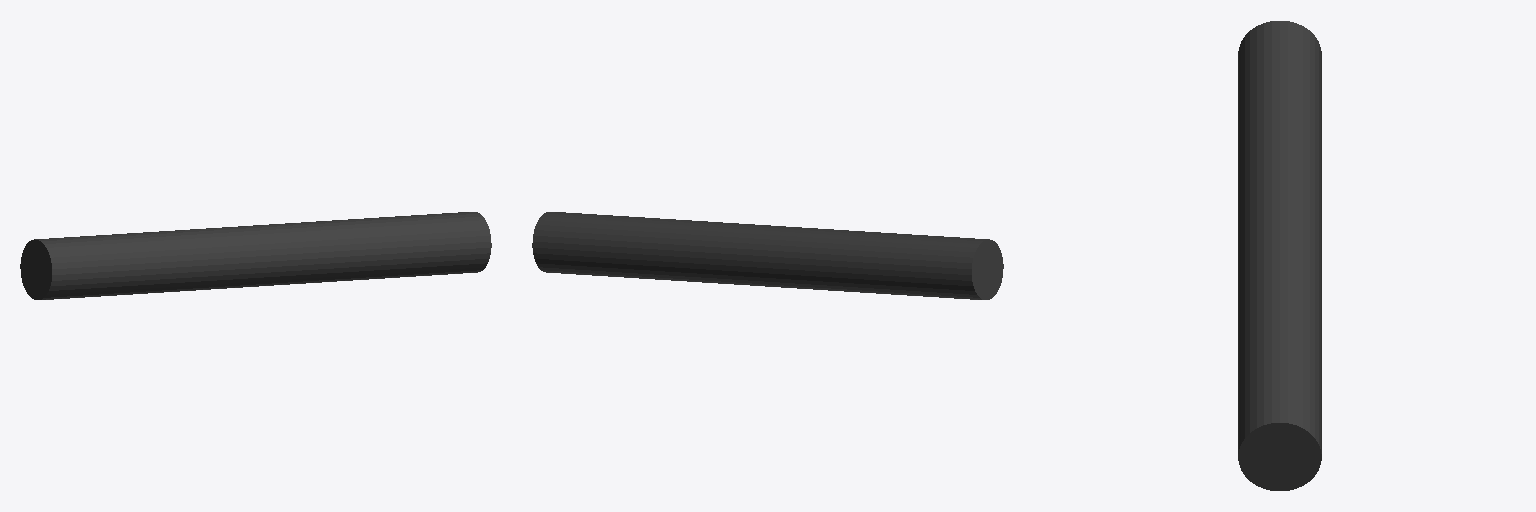
The robot description file, URDF, robot "panda":
<?xml version="1.0" ?>
<!-- =================================================================================== -->
<!-- |    This document was autogenerated by xacro from panda_arm_hand.urdf.xacro      | -->
<!-- |    EDITING THIS FILE BY HAND IS NOT RECOMMENDED                                 | -->
<!-- =================================================================================== -->
<robot name="panda" xmlns:xacro="http://www.ros.org/wiki/xacro">
  <link name="panda_link0">
  	<inertial>
      <origin rpy="0 0 0" xyz="0 0 0.05"/>
       <mass value="2.9"/>
       <inertia ixx="0.1" ixy="0" ixz="0" iyy="0.1" iyz="0" izz="0.1"/>
    </inertial>
    <visual>
      <geometry>
        <mesh filename="package://meshes/collision/link0.obj"/>
      </geometry>
      <material name="panda_white">
    		<color rgba="1. 1. 1. 1."/>
  		</material>
    </visual>
    <collision>
      <geometry>
        <mesh filename="package://meshes/collision/link0.obj"/>
      </geometry>
      <material name="panda_white"/>
    </collision>
  </link>
  <link name="panda_link1">
  	<inertial>
      <origin rpy="0 0 0" xyz="0 -0.04 -0.05"/>
       <mass value="2.7"/>
       <inertia ixx="0.1" ixy="0" ixz="0" iyy="0.1" iyz="0" izz="0.1"/>
    </inertial>
    <visual>
      <geometry>
        <mesh filename="package://meshes/visual/link1.obj"/>
      </geometry>
      <material name="panda_white"/>
    </visual>
    <collision>
      <geometry>
        <mesh filename="package://meshes/collision/link1.obj"/>
      </geometry>
      <material name="panda_white"/>
    </collision>
  </link>
  <joint name="panda_joint1" type="revolute">
    <safety_controller k_position="100.0" k_velocity="40.0" soft_lower_limit="-2.8973" soft_upper_limit="2.8973"/>
    <origin rpy="0 0 0" xyz="0 0 0.333"/>
    <parent link="panda_link0"/>
    <child link="panda_link1"/>
    <axis xyz="0 0 1"/>
    <limit effort="87" lower="-2.9671" upper="2.9671" velocity="2.1750"/>
  </joint>
  <link name="panda_link2">
  	<inertial>
      <origin rpy="0 0 0" xyz="0 -0.04 0.06"/>
       <mass value="2.73"/>
       <inertia ixx="0.1" ixy="0" ixz="0" iyy="0.1" iyz="0" izz="0.1"/>
    </inertial>
    <visual>
      <geometry>
        <mesh filename="package://meshes/visual/link2.obj"/>
      </geometry>
      <material name="panda_white"/>
    </visual>
    <collision>
      <geometry>
        <mesh filename="package://meshes/collision/link2.obj"/>
      </geometry>
      <material name="panda_white"/>
    </collision>
  </link>
  <joint name="panda_joint2" type="revolute">
    <safety_controller k_position="100.0" k_velocity="40.0" soft_lower_limit="-1.7628" soft_upper_limit="1.7628"/>
    <origin rpy="-1.57079632679 0 0" xyz="0 0 0"/>
    <parent link="panda_link1"/>
    <child link="panda_link2"/>
    <axis xyz="0 0 1"/>
    <limit effort="87" lower="-1.8326" upper="1.8326" velocity="2.1750"/>
    <!-- <limit effort="87" lower="-.3326" upper=".4326" velocity="2.1750"/> -->
  </joint>
  <link name="panda_link3">
	  <inertial>
      <origin rpy="0 0 0" xyz="0.01 0.01 -0.05"/>
       <mass value="2.04"/>
       <inertia ixx="0.1" ixy="0" ixz="0" iyy="0.1" iyz="0" izz="0.1"/>
    </inertial>
    <visual>
      <geometry>
        <mesh filename="package://meshes/visual/link3.obj"/>
      </geometry>
      <material name="panda_red">
    		<color rgba="1. 1. 1. 1."/>
  		</material>
    </visual>
    <collision>
      <geometry>
        <mesh filename="package://meshes/collision/link3.obj"/>
      </geometry>
    </collision>
  </link>
  <joint name="panda_joint3" type="revolute">
    <safety_controller k_position="100.0" k_velocity="40.0" soft_lower_limit="-2.8973" soft_upper_limit="2.8973"/>
    <origin rpy="1.57079632679 0 0" xyz="0 -0.316 0"/>
    <parent link="panda_link2"/>
    <child link="panda_link3"/>
    <axis xyz="0 0 1"/>
    <limit effort="87" lower="-2.9671" upper="2.9671" velocity="2.1750"/>
  </joint>
  <link name="panda_link4">
  	<inertial>
      <origin rpy="0 0 0" xyz="-0.03 0.03 0.02"/>
       <mass value="2.08"/>
       <inertia ixx="0.1" ixy="0" ixz="0" iyy="0.1" iyz="0" izz="0.1"/>
    </inertial>
    <visual>
      <geometry>
        <mesh filename="package://meshes/visual/link4.obj"/>
      </geometry>
      <material name="panda_white"/>
    </visual>
    <collision>
      <geometry>
        <mesh filename="package://meshes/collision/link4.obj"/>
      </geometry>
      <material name="panda_white"/>
    </collision>
  </link>
  <joint name="panda_joint4" type="revolute">
    <safety_controller k_position="100.0" k_velocity="40.0" soft_lower_limit="-3.0718" soft_upper_limit="-0.0698"/>
    <origin rpy="1.57079632679 0 0" xyz="0.0825 0 0"/>
    <parent link="panda_link3"/>
    <child link="panda_link4"/>
    <axis xyz="0 0 1"/>
    <limit effort="87" lower="-3.1416" upper="0.0" velocity="2.1750"/>
    <!-- <limit effort="87" lower="-2.5" upper="-1.0" velocity="2.1750"/> -->
  </joint>
  <link name="panda_link5">
  	<inertial>
      <origin rpy="0 0 0" xyz="0 0.04 -0.12"/>
       <mass value="3"/>
       <inertia ixx="0.1" ixy="0" ixz="0" iyy="0.1" iyz="0" izz="0.1"/>
    </inertial>
    <visual>
      <geometry>
        <mesh filename="package://meshes/visual/link5.obj"/>
      </geometry>
      <material name="panda_white"/>
    </visual>
    <collision>
      <geometry>
        <mesh filename="package://meshes/collision/link5.obj"/>
      </geometry>
      <material name="panda_white"/>
    </collision>
  </link>
  <joint name="panda_joint5" type="revolute">
    <safety_controller k_position="100.0" k_velocity="40.0" soft_lower_limit="-2.8973" soft_upper_limit="2.8973"/>
    <origin rpy="-1.57079632679 0 0" xyz="-0.0825 0.384 0"/>
    <parent link="panda_link4"/>
    <child link="panda_link5"/>
    <axis xyz="0 0 1"/>
    <limit effort="12" lower="-2.9671" upper="2.9671" velocity="2.6100"/>
  </joint>
  <link name="panda_link6">
  	<inertial>
      <origin rpy="0 0 0" xyz="0.04 0 0"/>
       <mass value="1.3"/>
       <inertia ixx="0.1" ixy="0" ixz="0" iyy="0.1" iyz="0" izz="0.1"/>
    </inertial>
    <visual>
      <geometry>
        <mesh filename="package://meshes/visual/link6.obj"/>
      </geometry>
      <material name="panda_white"/>
    </visual>
    <collision>
      <geometry>
        <mesh filename="package://meshes/collision/link6.obj"/>
      </geometry>
      <material name="panda_white"/>
    </collision>
  </link>
  <joint name="panda_joint6" type="revolute">
    <safety_controller k_position="100.0" k_velocity="40.0" soft_lower_limit="-0.0175" soft_upper_limit="3.7525"/>
    <origin rpy="1.57079632679 0 0" xyz="0 0 0"/>
    <parent link="panda_link5"/>
    <child link="panda_link6"/>
    <axis xyz="0 0 1"/>
    <limit effort="12" lower="-0.0873" upper="3.8223" velocity="2.6100"/>
  </joint>
  <link name="panda_link7">
  	<inertial>
      <origin rpy="0 0 0" xyz="0 0 0.08"/>
       <mass value=".2"/>
       <inertia ixx="0.1" ixy="0" ixz="0" iyy="0.1" iyz="0" izz="0.1"/>
    </inertial>
    <visual>
      <geometry>
        <mesh filename="package://meshes/collision/link7.obj"/>
      </geometry>
      <!-- added transform below to rectify safety controller collision-->
      <origin rpy="0 0 0.785398163397" xyz="0 0 0"/>
      <material name="panda_white"/>
    </visual>
    <collision>
      <geometry>
        <mesh filename="package://meshes/collision/link7.obj"/>
      </geometry>
      <!-- added transform below to rectify safety controller collision-->
      <origin rpy="0 0 0.785398163397" xyz="0 0 0"/>
      <material name="panda_white"/>
    </collision>
  </link>
  <joint name="panda_joint7" type="revolute">
    <safety_controller k_position="100.0" k_velocity="40.0" soft_lower_limit="-2.8973" soft_upper_limit="2.8973"/>
    <origin rpy="1.57079632679 0 0" xyz="0.088 0 0"/>
    <parent link="panda_link6"/>
    <child link="panda_link7"/>
    <axis xyz="0 0 1"/>
    <limit effort="12" lower="-2.9671" upper="2.9671" velocity="2.6100"/>
  </joint>
  <link name="panda_link8">
  	 <inertial>
      <origin rpy="0 0 0" xyz="0 0 0"/>
       <mass value="0.0"/>
       <inertia ixx="0.1" ixy="0" ixz="0" iyy="0.1" iyz="0" izz="0.1"/>
    </inertial>
  </link>
  <joint name="panda_joint8" type="fixed">
    <origin rpy="0 0 0" xyz="0 0 0.107"/>
    <parent link="panda_link7"/>
    <child link="panda_link8"/>
    <axis xyz="0 0 0"/>
  </joint>
  <joint name="panda_hand_joint" type="fixed">
    <parent link="panda_link8"/>
    <child link="panda_hand"/>
    <!-- <origin rpy="0 0 -0.785398163397" xyz="0 0 0"/> -->
    <origin rpy="0 0 0" xyz="0 0 0"/>
  </joint>
  <link name="panda_hand">
  	<inertial>
      <origin rpy="0 0 0" xyz="0 0 0.04"/>
       <mass value=".81"/>
       <inertia ixx="0.1" ixy="0" ixz="0" iyy="0.1" iyz="0" izz="0.1"/>
    </inertial>
    <visual>
      <geometry>
        <mesh filename="package://meshes/visual/hand.obj"/>
      </geometry>
      <material name="panda_white"/>
    </visual>
    <collision>
      <geometry>
        <mesh filename="package://meshes/collision/hand.obj"/>
      </geometry>
      <material name="panda_white"/>
    </collision>
  </link>
  <link name="panda_leftfinger">
       <contact>
      <friction_anchor/>
      <stiffness value="30000.0"/>
      <damping value="1000.0"/>
      <spinning_friction value="0.1"/>
      <lateral_friction value="1.0"/>
    </contact>
  	<inertial>
      <origin rpy="0 0 0" xyz="0 0.01 0.02"/>
       <mass value="0.1"/>
       <inertia ixx="0.1" ixy="0" ixz="0" iyy="0.1" iyz="0" izz="0.1"/>
    </inertial>
    <visual>
      <geometry>
        <mesh filename="package://meshes/visual/finger.obj"/>
      </geometry>
      <material name="panda_white"/>
    </visual>
    <collision>
      <geometry>
        <mesh filename="package://meshes/collision/finger.obj"/>
      </geometry>
      <material name="panda_white"/>
    </collision>
  </link>
  <link name="panda_rightfinger">
        <contact>
      <friction_anchor/>
      <stiffness value="30000.0"/>
      <damping value="1000.0"/>
      <spinning_friction value="0.1"/>
      <lateral_friction value="1.0"/>
    </contact>

  	<inertial>
      <origin rpy="0 0 0" xyz="0 -0.01 0.02"/>
       <mass value="0.1"/>
       <inertia ixx="0.1" ixy="0" ixz="0" iyy="0.1" iyz="0" izz="0.1"/>
    </inertial>
    <visual>
      <origin rpy="0 0 3.14159265359" xyz="0 0 0"/>
      <geometry>
        <mesh filename="package://meshes/visual/finger.obj"/>
      </geometry>
      <material name="panda_white"/>
    </visual>
    <collision>
      <origin rpy="0 0 3.14159265359" xyz="0 0 0"/>
      <geometry>
        <mesh filename="package://meshes/collision/finger.obj"/>
      </geometry>
      <material name="panda_white"/>
    </collision>
  </link>
  <joint name="panda_finger_joint1" type="prismatic">
    <parent link="panda_hand"/>
    <child link="panda_leftfinger"/>
    <origin rpy="0 0 0" xyz="0 0 0.0584"/>
    <axis xyz="0 1 0"/>
    <limit effort="20" lower="0.0" upper="0.04" velocity="0.2"/>
  </joint>
  <joint name="panda_finger_joint2" type="prismatic">
    <parent link="panda_hand"/>
    <child link="panda_rightfinger"/>
    <origin rpy="0 0 0" xyz="0 0 0.0584"/>
    <axis xyz="0 -1 0"/>
    <limit effort="20" lower="0.0" upper="0.04" velocity="0.2"/>
    <mimic joint="panda_finger_joint1"/>
  </joint>
   <link name="panda_grasptarget">
 <inertial>
      <origin rpy="0 0 0" xyz="0 0 0"/>
       <mass value="0.0"/>
       <inertia ixx="0.1" ixy="0" ixz="0" iyy="0.1" iyz="0" izz="0.1"/>
    </inertial>
   </link>
   <joint name="panda_grasptarget_hand" type="fixed">
    <parent link="panda_hand"/>
    <child link="panda_grasptarget"/>
    <origin rpy="0 0 0" xyz="0 0 0.105"/>
  </joint>

  <link name="pan">
    <visual>
      <origin rpy="0 0 0" xyz="0 0 0"/>
      <geometry>
        <mesh filename="package://meshes/pan_tefal/pan_tefal.obj"/>
      </geometry>
    </visual>
    <visual>  <!-- handle -->
      <geometry>
        <cylinder radius="0.011" length="0.185"/>
      </geometry>
      <origin rpy="0 1.4 0" xyz="0.22 0 0.07"/>
      <material name="stainless">
        <color rgba="0.3 0.3 .3 1"/>
      </material>
    </visual>
    <collision>  <!-- handle -->
      <geometry>
        <cylinder radius="0.011" length="0.185"/>
      </geometry>
      <origin rpy="0 1.4 0" xyz="0.22 0 0.07"/>
    </collision>
    <collision>  <!-- bottom -->
      <geometry>
        <cylinder radius="0.12" length="0.02"/>
      </geometry>
      <origin rpy="0 0 0" xyz="0 0 0.01"/>
    </collision>
    <collision>
      <geometry>
        <mesh filename="package://meshes/pan_tefal/pan_tefal-collision01.obj"/>
      </geometry>
      <origin rpy="0 0 0" xyz="0 0 0"/>
    </collision>
    <collision>
      <geometry>
        <mesh filename="package://meshes/pan_tefal/pan_tefal-collision02.obj"/>
      </geometry>
      <origin rpy="0 0 0" xyz="0 0 0"/>
    </collision>
    <collision>
      <geometry>
        <mesh filename="package://meshes/pan_tefal/pan_tefal-collision03.obj"/>
      </geometry>
      <origin rpy="0 0 0" xyz="0 0 0"/>
    </collision>
    <collision>
      <geometry>
        <mesh filename="package://meshes/pan_tefal/pan_tefal-collision04.obj"/>
      </geometry>
      <origin rpy="0 0 0" xyz="0 0 0"/>
    </collision>
    <collision>
      <geometry>
        <mesh filename="package://meshes/pan_tefal/pan_tefal-collision05.obj"/>
      </geometry>
      <origin rpy="0 0 0" xyz="0 0 0"/>
    </collision>
    <collision>
      <geometry>
        <mesh filename="package://meshes/pan_tefal/pan_tefal-collision06.obj"/>
      </geometry>
      <origin rpy="0 0 0" xyz="0 0 0"/>
    </collision>
    <inertial>
      <mass value="0.1"/>  <!-- mr^2 = 0.5*0.12^2 = 0.0072 for Z axis, lighter along other axis -->
      <inertia ixx="0.005" iyy="0.005" izz="0.0072"/>
    </inertial>
  </link>

   <joint name="panda_pan_grasp" type="fixed">
    <parent link="panda_grasptarget"/>
    <child link="pan"/>
    <origin rpy="0 3.14159265359 0" xyz="0.2 0 0.05"/>
  </joint>

</robot>

--- What the picture shows (computed from the rendered views, not written in the file) ---
Views: 3 orthographic renders of the robot side by side, from view 1: azimuth 30°, elevation 25°; view 2: azimuth 150°, elevation 25°; view 3: azimuth 270°, elevation 25°.
Model panda with 14 links and 13 joints (7 revolute, 2 prismatic, 4 fixed), rooted at panda_link0, posed all joints at 0.
Visible links, largest first — view 1: pan; view 2: pan; view 3: pan.
Link boxes in pixels (box(x1,y1,x2,y2)): pan: box(20, 212, 491, 299); pan: box(532, 212, 1003, 299); pan: box(1238, 21, 1321, 490).
Size in the robot's own frame: 0.186 by 0.022 by 0.0531 metres.
Meshes: 11 distinct files referenced, 0 mesh visuals loaded (none loaded); not drawn: 12 (reference not matched to a file when rendering).